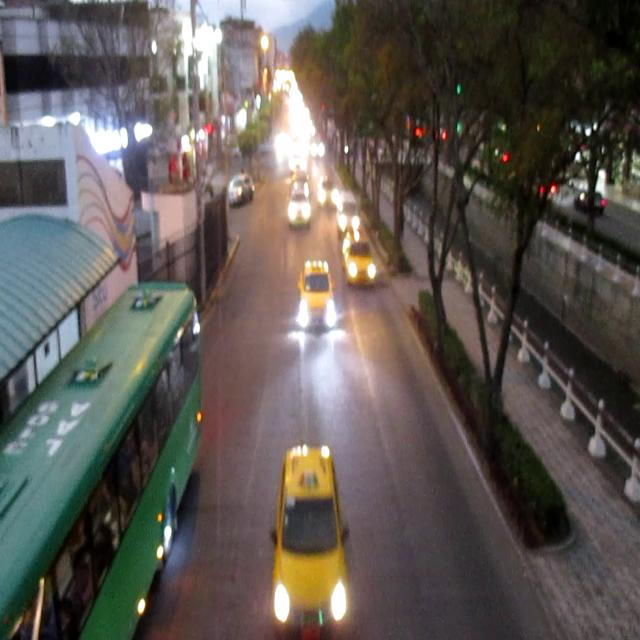BUS: (3, 284, 204, 638)
SUV: (230, 176, 253, 206)
